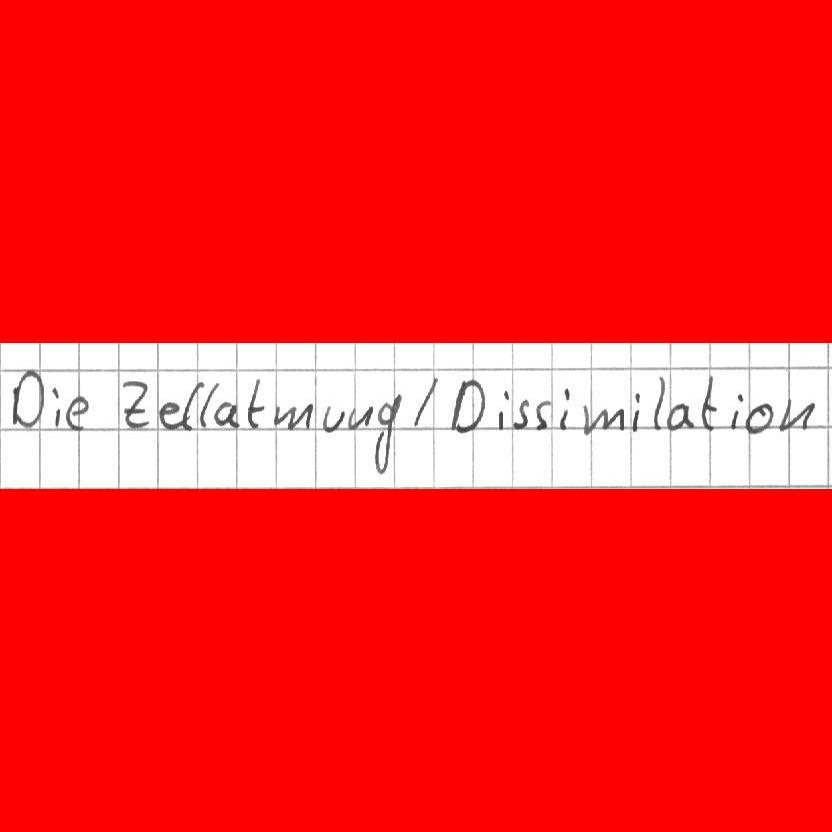Char: (369, 390, 403, 476), (8, 366, 49, 431), (449, 374, 487, 434), (119, 374, 154, 430), (411, 375, 442, 432), (774, 394, 817, 434), (271, 400, 315, 436), (582, 401, 625, 436), (696, 371, 721, 431), (181, 378, 205, 433), (244, 376, 266, 434), (64, 392, 96, 431), (649, 373, 668, 433), (661, 398, 693, 433), (745, 400, 776, 435), (198, 380, 219, 431), (320, 399, 345, 435), (213, 399, 240, 431), (551, 385, 569, 433), (347, 401, 374, 432), (158, 398, 184, 430), (533, 396, 553, 433), (726, 391, 744, 432), (495, 385, 510, 434), (51, 382, 65, 430), (512, 395, 530, 432), (630, 388, 643, 433)
